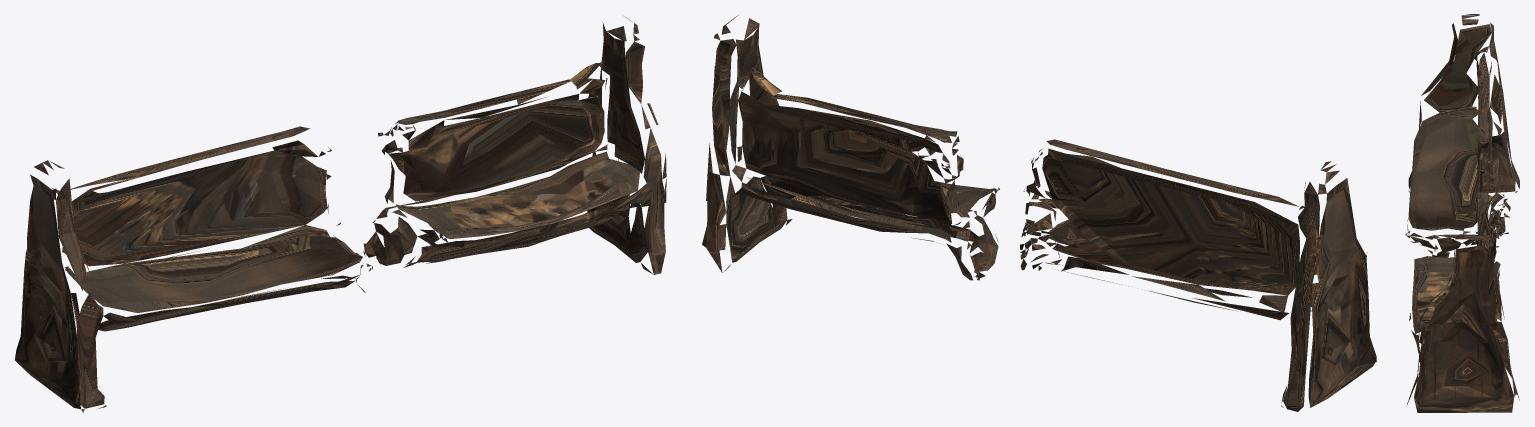
Rendered from church-pew-broken.glb.
The picture shows the model from 3 angles, left to right: view 1: azimuth 30°, elevation 25°; view 2: azimuth 150°, elevation 25°; view 3: azimuth 270°, elevation 25°; orthographic projection. The views are drawn at different scales.
Parts seen in each view (by area): view 1: mesh; view 2: mesh; view 3: mesh.
Part boxes in pixels (x1,y1,x2,y2): mesh: (15, 16, 666, 412); mesh: (702, 15, 1376, 411); mesh: (1405, 14, 1519, 412).
Size of the model in its own units: 2 by 0.7118 by 0.425.
1 material, 1 textured.
